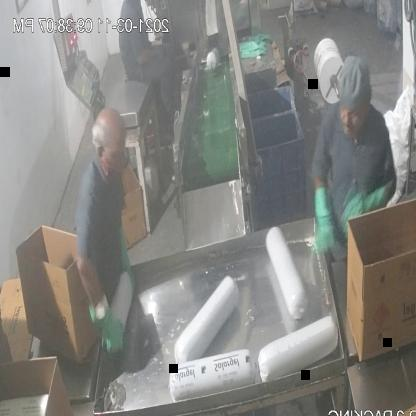glove: (84, 285, 126, 368), (310, 180, 342, 254)
